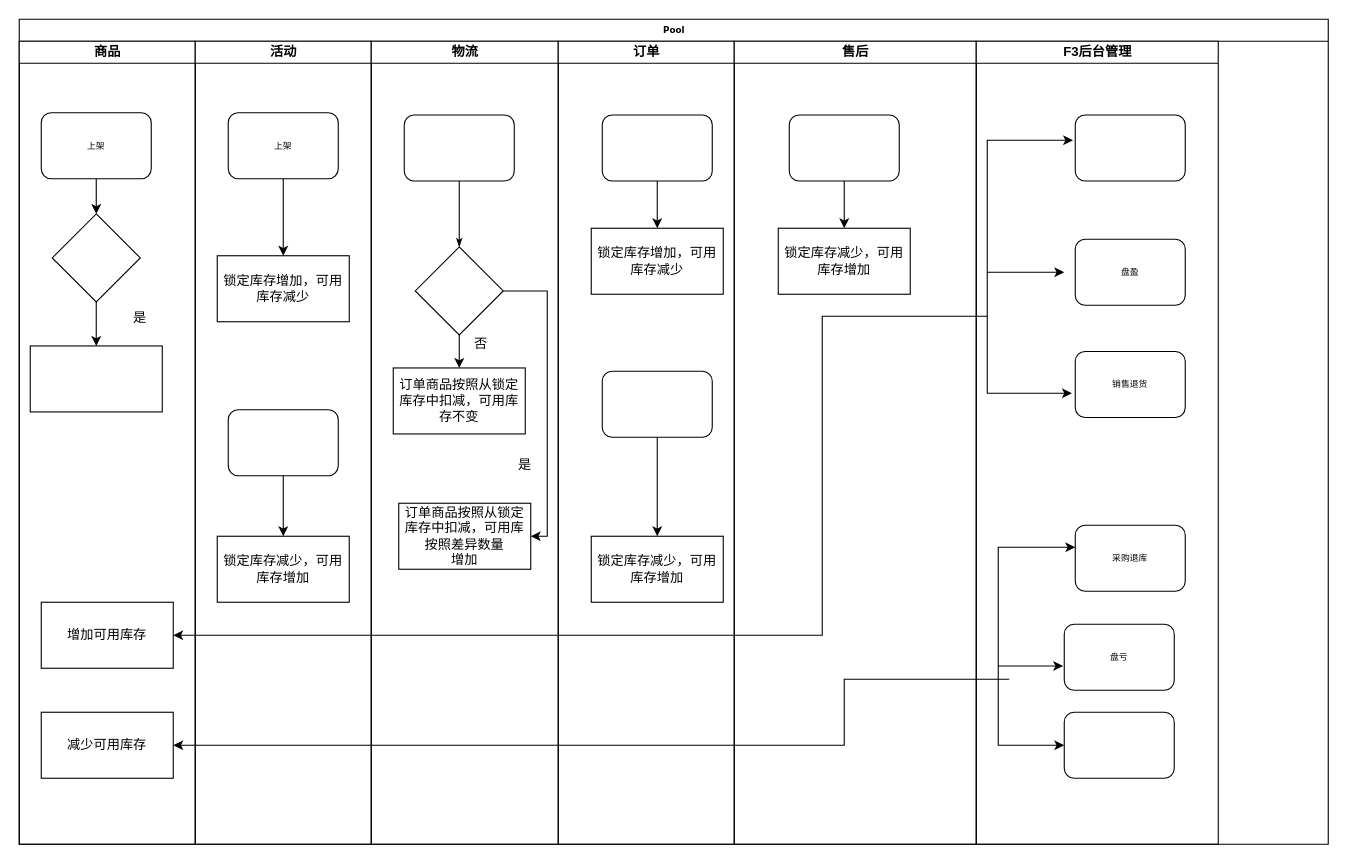
This 1348x864 diagram has some shape labels left out. The shapes that lost their labels are listed below. From the top down, each one's centre as x and y in pixels, then its label:
(458,147): 订单F3装箱
(656,147): 下单
(843,147): 装箱前取消
(1129,147): 采购入库
(95,257): 判断是否首次上架
(458,290): 是否产生差异单
(95,378): 同步F3的库存，可用库存为F3物流库的库存，锁定库存为0
(656,403): 超时取消
(282,442): 下架
(1118,744): 报损
